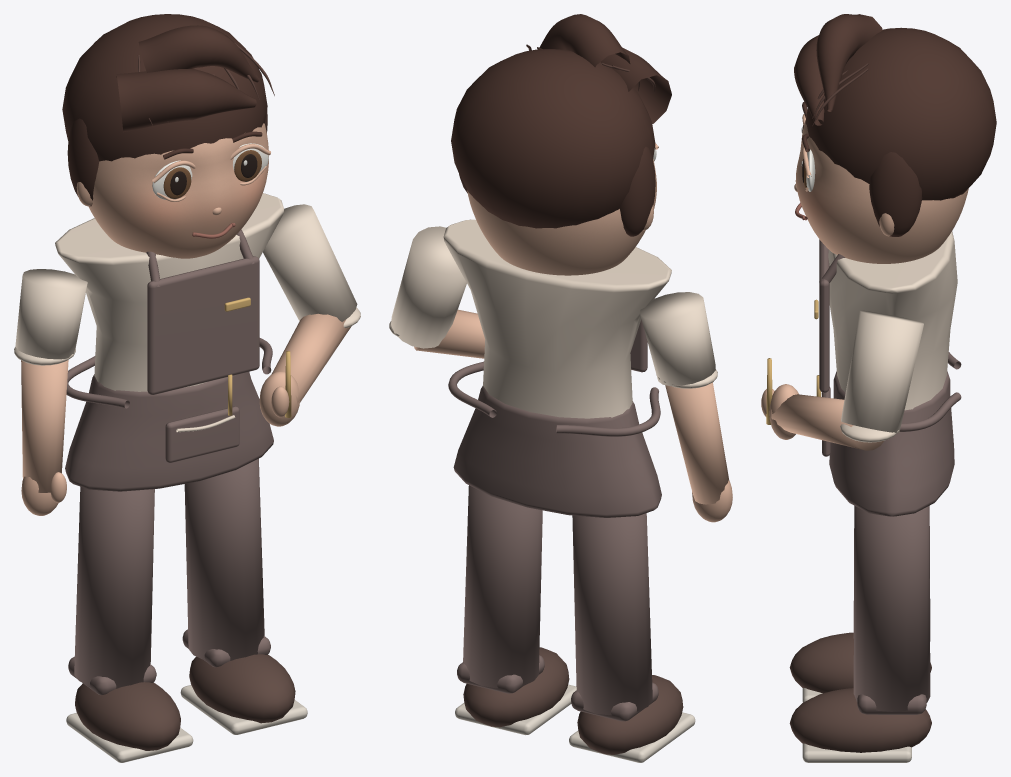
The model's file is staff_male.glb.
3 renders of one model, left to right at view 1: azimuth 30°, elevation 25°; view 2: azimuth 150°, elevation 25°; view 3: azimuth 270°, elevation 25°, orthographic.
Visible parts, largest first — view 1: Apron_lower, Leg_L, Leg_R, Head, Clothed_torso, Hair_base, Apron_bib, Sleeve_1, swept_forelock, Shoe_R, Shoe_L, Sleeve_-1 (+12 smaller); view 2: Hair_base, Clothed_torso, Apron_lower, Leg_L, Leg_R, Head, Sleeve_1, Sleeve_-1, Bare_forearm_-1, Shoe_L, Shoe_R, quiff_sculpt (+11 smaller); view 3: Hair_base, Leg_R, Clothed_torso, Apron_lower, Head, Sleeve_1, Shoe_R, Shoe_L, Hair_sideburn_1, quiff_sculpt, Bare_forearm_1, swept_forelock (+6 smaller).
Part boxes in pixels (x1,y1,x2,y2): Apron_lower: [65, 372, 273, 491]; Leg_L: [74, 486, 154, 688]; Leg_R: [184, 458, 264, 660]; Head: [88, 123, 268, 258]; Clothed_torso: [55, 193, 283, 391]; Hair_base: [62, 14, 267, 161]; Apron_bib: [147, 256, 259, 394]; Sleeve_1: [263, 204, 357, 321]; swept_forelock: [116, 69, 256, 132]; Shoe_R: [189, 654, 295, 723]; Shoe_L: [75, 682, 180, 750]; Sleeve_-1: [15, 269, 87, 359]; Hair_base: [451, 49, 655, 228]; Clothed_torso: [443, 219, 671, 418]; Apron_lower: [453, 386, 661, 517]; Leg_L: [572, 513, 652, 715]; Leg_R: [463, 485, 542, 688]; Head: [467, 159, 656, 275]; Sleeve_1: [391, 226, 466, 348]; Sleeve_-1: [640, 292, 715, 386]; Bare_forearm_-1: [665, 382, 729, 504]; Shoe_L: [577, 675, 683, 754]; Shoe_R: [463, 647, 569, 727]; quiff_sculpt: [539, 14, 630, 67]; Hair_base: [805, 27, 996, 200]; Leg_R: [853, 506, 930, 711]; Clothed_torso: [828, 231, 957, 410]; Apron_lower: [829, 371, 954, 516]; Head: [795, 120, 968, 263]; Sleeve_1: [841, 310, 923, 432]; Shoe_R: [789, 688, 931, 752]; Shoe_L: [789, 632, 931, 693]; Hair_sideburn_1: [869, 152, 922, 236]; quiff_sculpt: [816, 14, 882, 111]; Bare_forearm_1: [771, 394, 883, 450]; swept_forelock: [794, 35, 824, 125].
Size of the model in its own units: 1.1 by 2.21 by 0.6706.
Materials: 13 (1 with a texture image).
